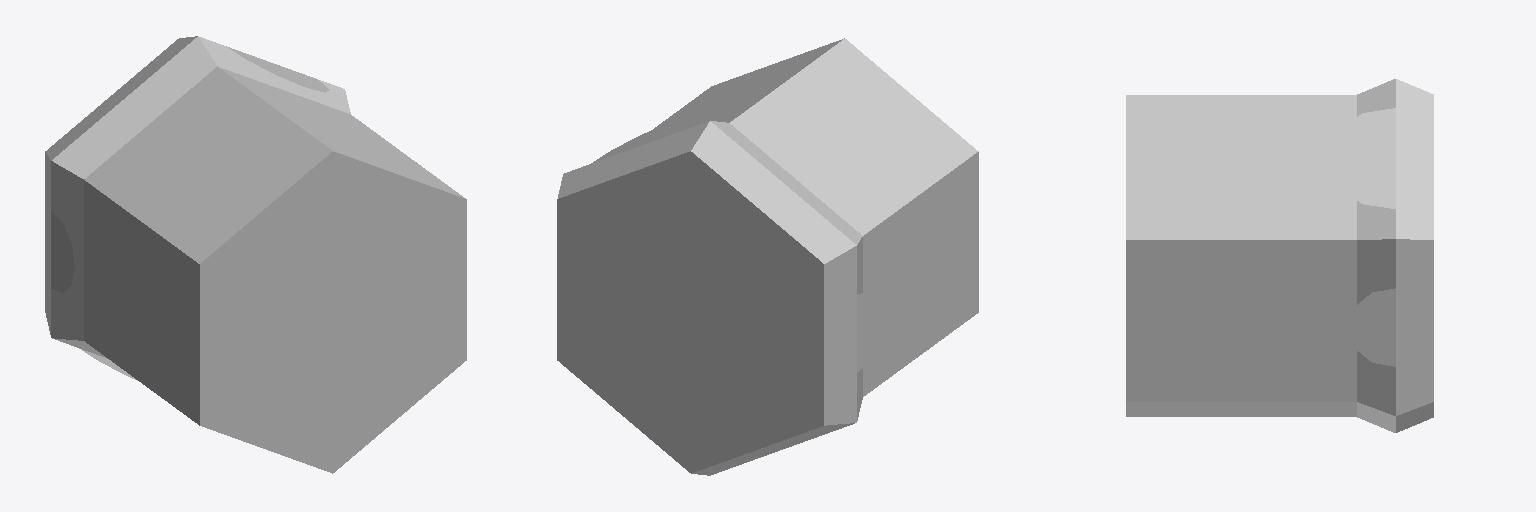
File: block-snow-overhang-hexagon.obj
3 renders of one model, left to right at view 1: azimuth 30°, elevation 25°; view 2: azimuth 150°, elevation 25°; view 3: azimuth 270°, elevation 25°, orthographic.
Parts seen in each view (by area): view 1: block-snow-overhang-hexagon; view 2: block-snow-overhang-hexagon; view 3: block-snow-overhang-hexagon.
Boxes of the visible parts, x1,y1,x2,y2 form: block-snow-overhang-hexagon: [45, 36, 466, 473]; block-snow-overhang-hexagon: [557, 38, 978, 475]; block-snow-overhang-hexagon: [1126, 79, 1433, 432].
Size of the model in its own units: 1.1 by 1.27 by 1.